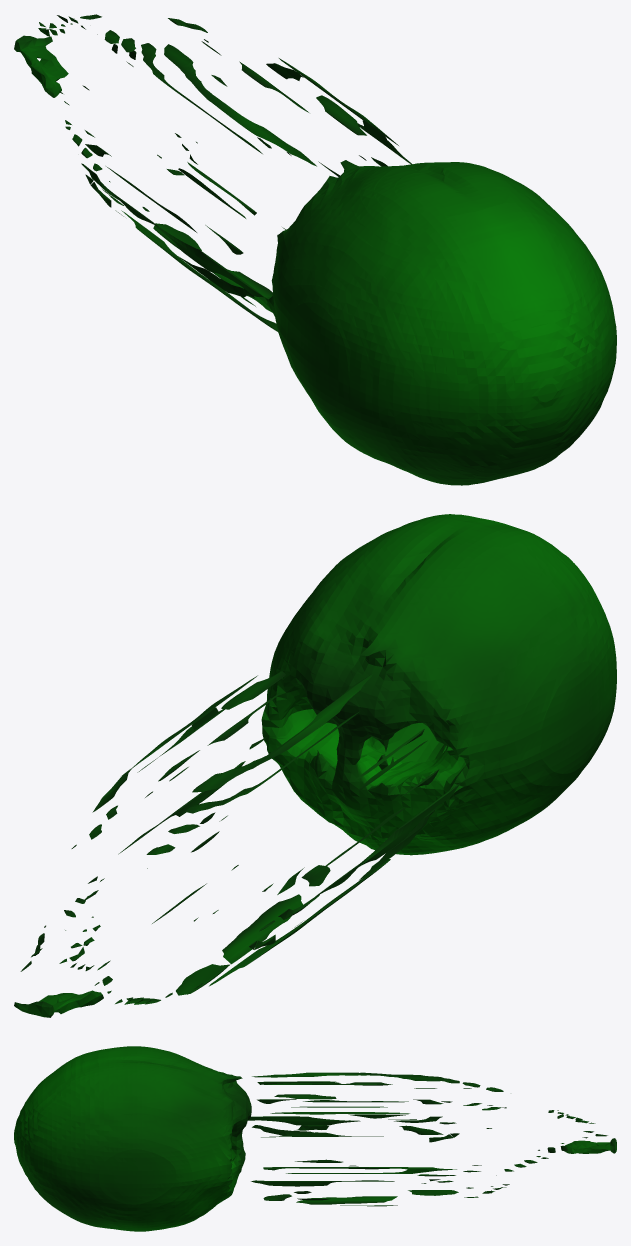
File: A Balloon_1749668804.obj
The picture shows the model from 3 angles, top to bottom: view 1: azimuth 30°, elevation 25°; view 2: azimuth 150°, elevation 25°; view 3: azimuth 270°, elevation 25°; orthographic projection. The views are drawn at different scales.
Size of the model in its own units: 0.5962 by 0.5941 by 1.98.
